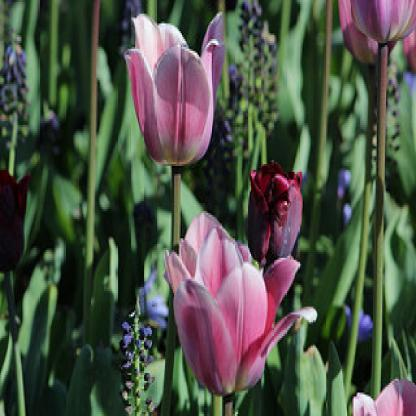TULIP: (121, 11, 348, 394)
